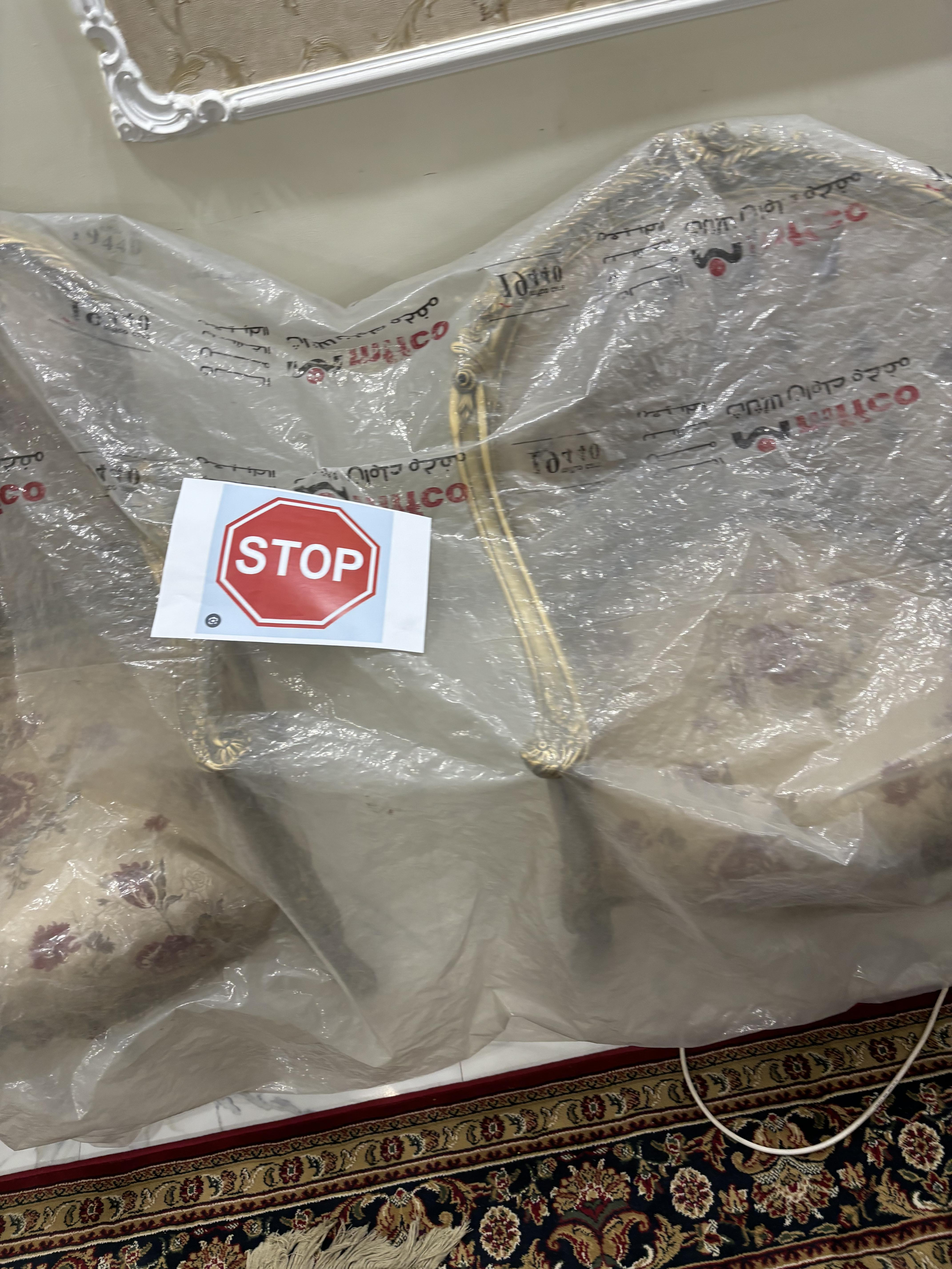Stop: (219, 493, 385, 636)
